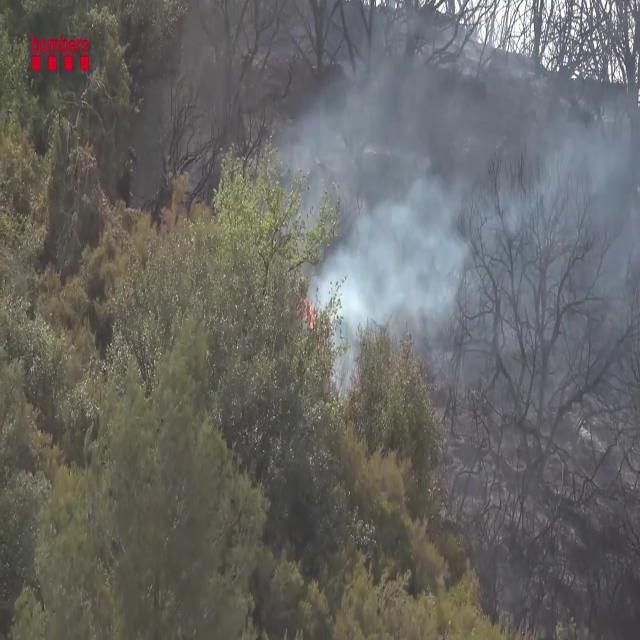Smoke: (310, 10, 640, 410)
